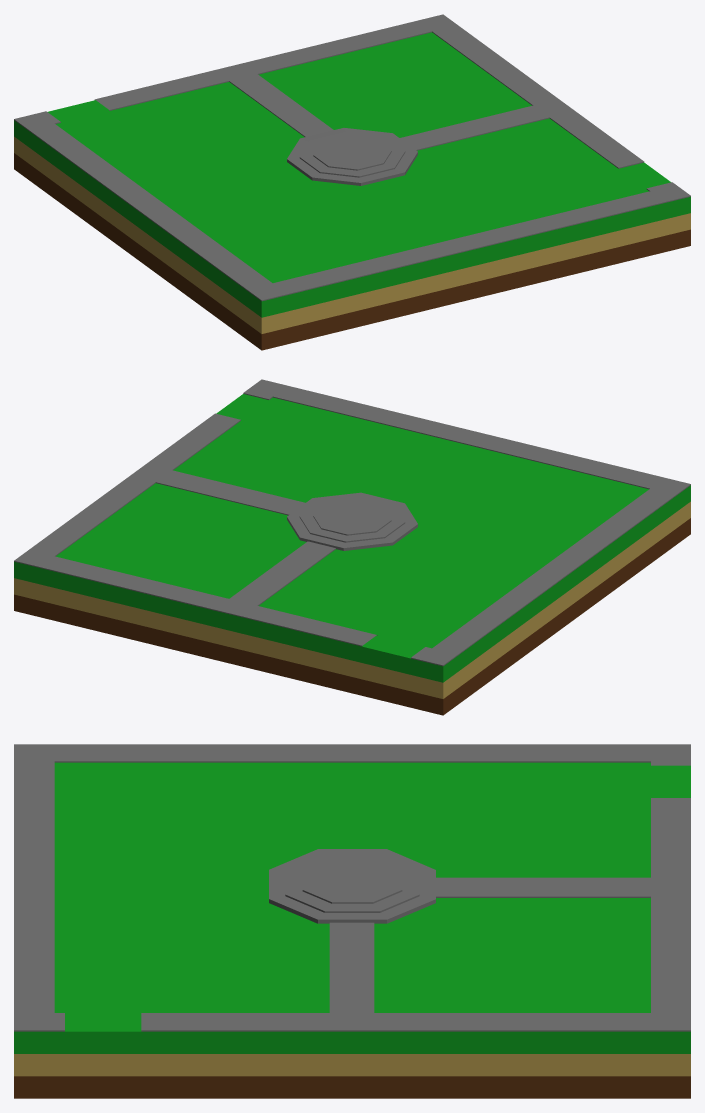
File: Cathedral-HitBox.glb
3 views of the same model, one above another, from view 1: azimuth 30°, elevation 25°; view 2: azimuth 150°, elevation 25°; view 3: azimuth 270°, elevation 25° (orthographic). The views are drawn at different scales.
Parts seen in each view (by area): view 1: Plane.036, Plane.033, Plane.032, Cylinder.149; view 2: Plane.036, Plane.033, Plane.032, Cylinder.149; view 3: Plane.036, Plane.033, Plane.032, Cylinder.149.
Boxes of the visible parts, <box> form: Plane.036: <box>14,32,690,350</box>; Plane.033: <box>94,14,644,168</box>; Plane.032: <box>14,111,690,301</box>; Cylinder.149: <box>287,128,417,185</box>; Plane.036: <box>14,394,690,715</box>; Plane.033: <box>14,413,377,646</box>; Plane.032: <box>243,379,690,666</box>; Cylinder.149: <box>287,492,417,550</box>; Plane.036: <box>14,762,690,1098</box>; Plane.033: <box>141,798,690,1031</box>; Plane.032: <box>14,744,690,1031</box>; Cylinder.149: <box>269,849,435,923</box>.
Size of what is drawn, in the model's own units: 33.35 by 4.05 by 33.35.
